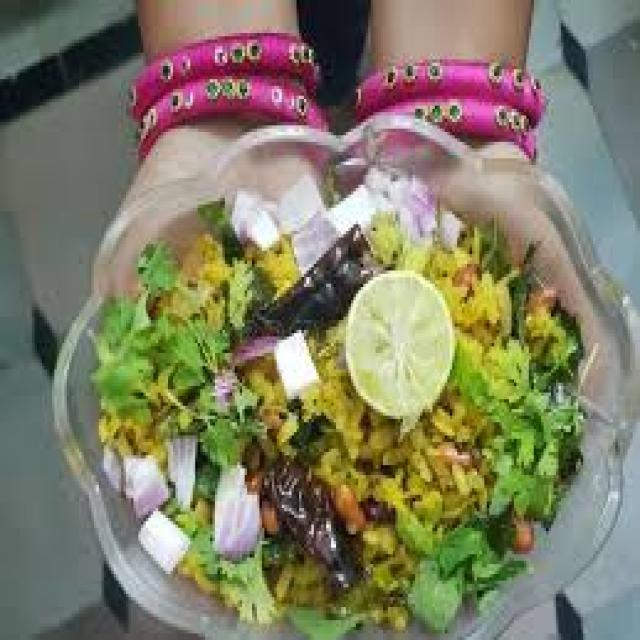POHA: (104, 168, 587, 635)
